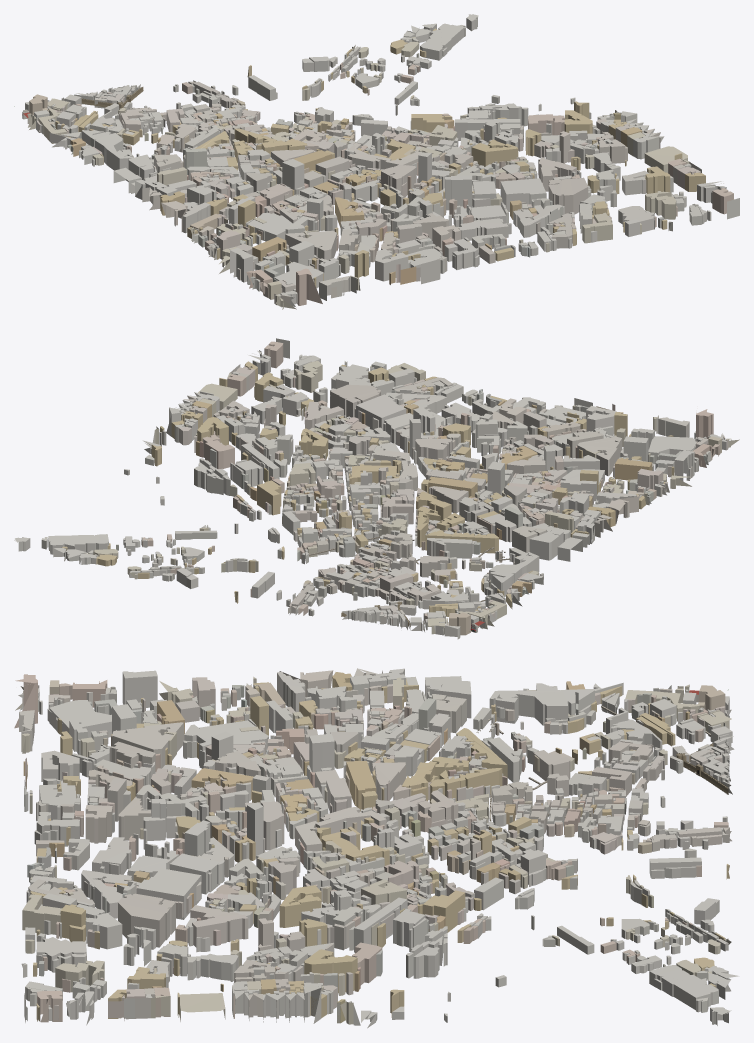
The picture shows the model from 3 angles, top to bottom: view 1: azimuth 30°, elevation 25°; view 2: azimuth 150°, elevation 25°; view 3: azimuth 270°, elevation 25°; orthographic projection. The views are drawn at different scales.
Bounding box in the file's own units: 1046 × 117 × 1034.
